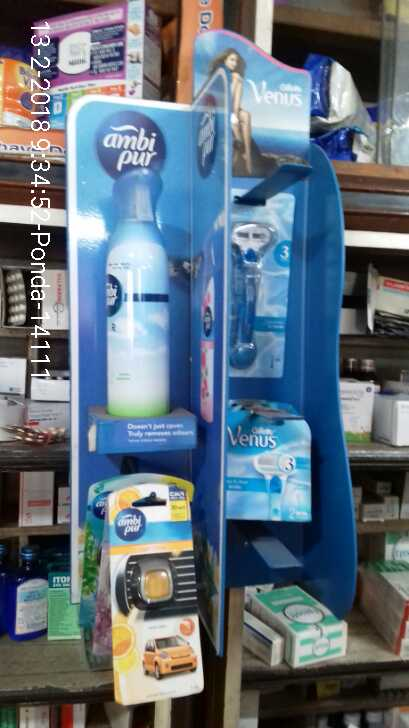beauty: (225, 407, 316, 529), (231, 190, 287, 378)
home: (103, 499, 211, 694), (103, 166, 180, 418)
